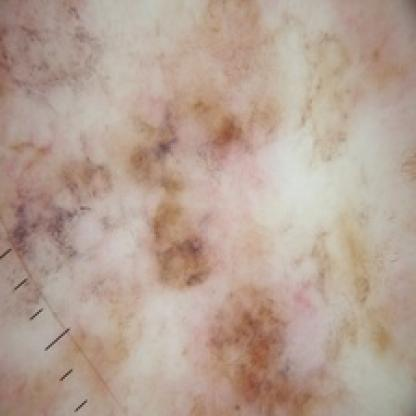Skin_Cancer-Malignant: (128, 94, 255, 294)
